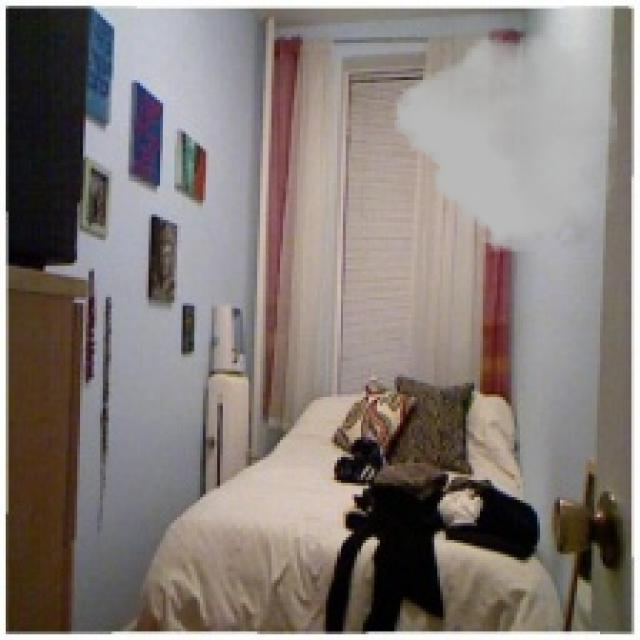smoke: (394, 6, 617, 257)
